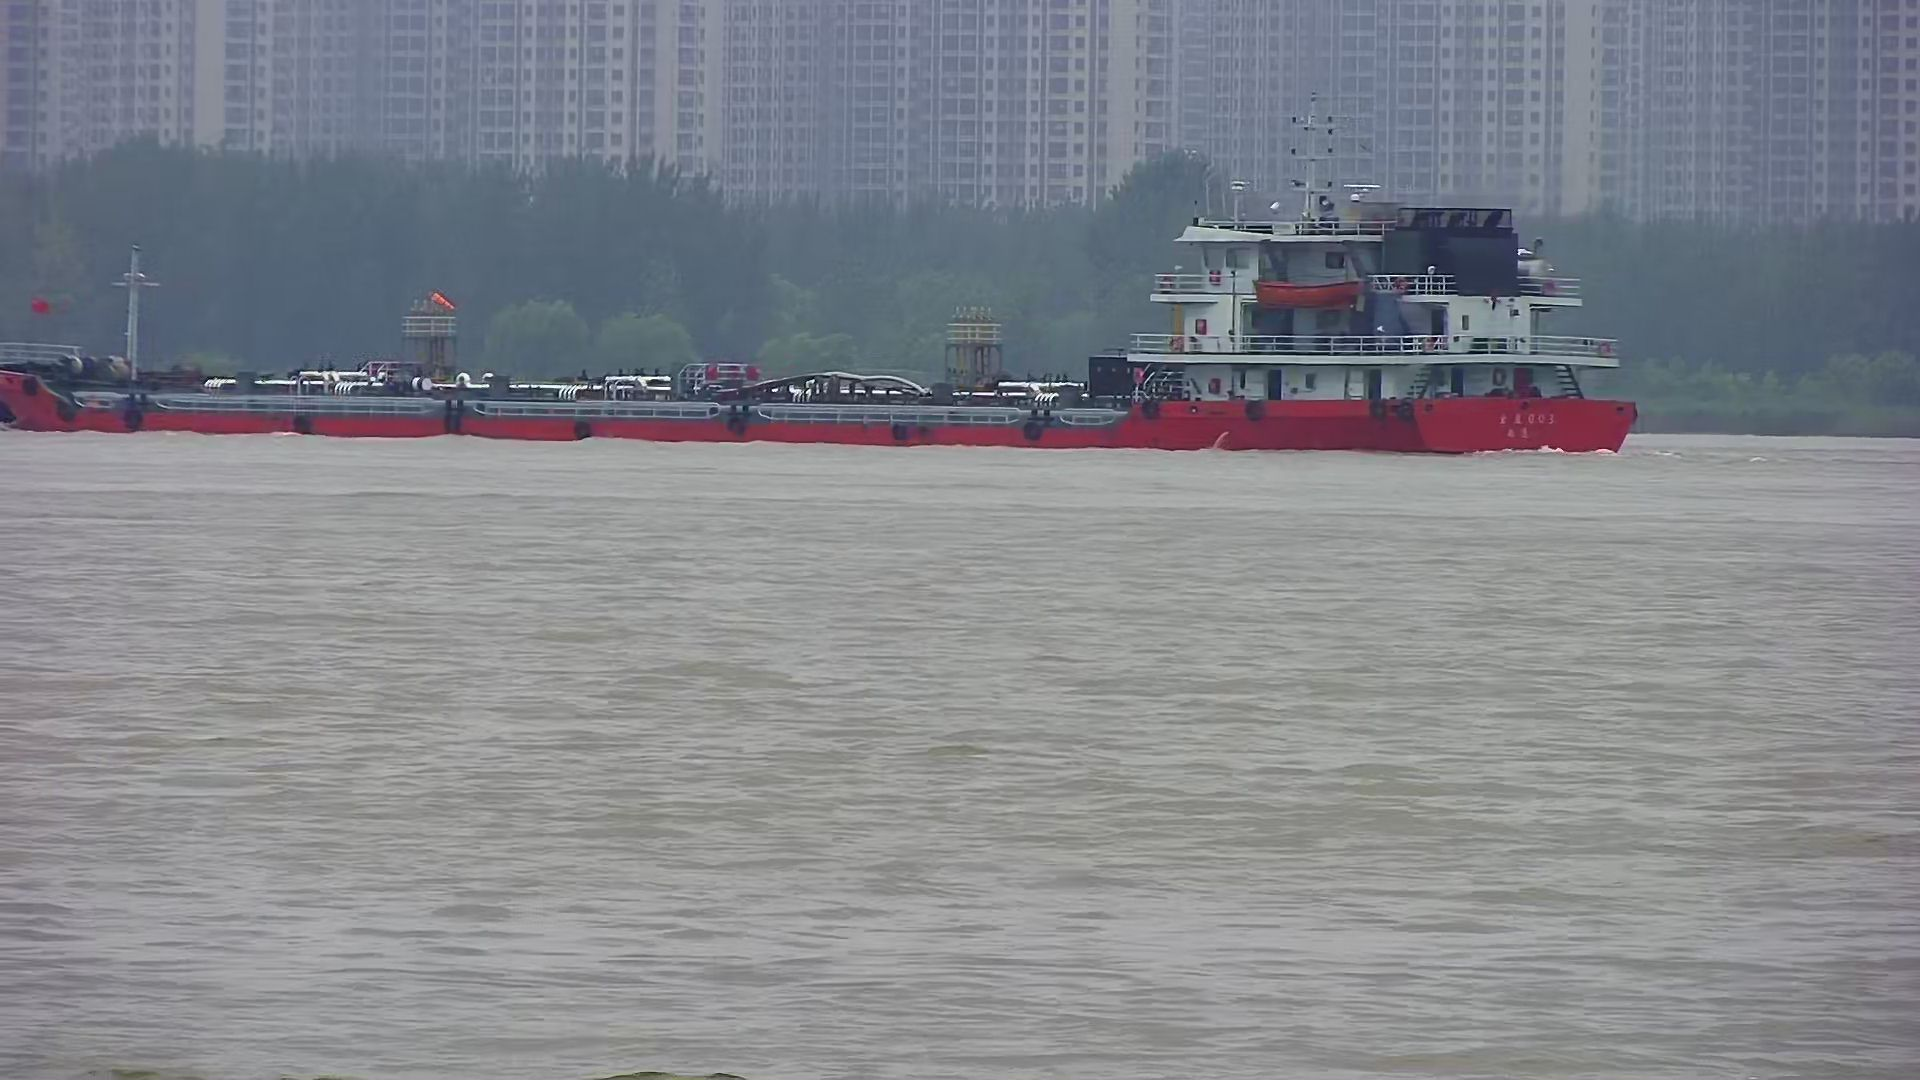ship: (1, 167, 1644, 463)
